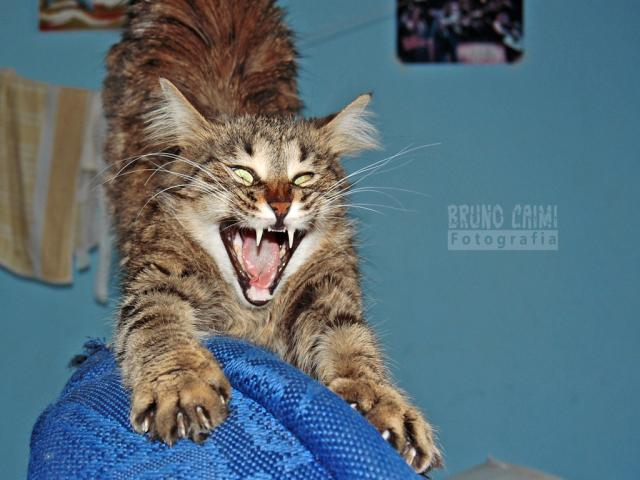Cat: (100, 0, 443, 472)
